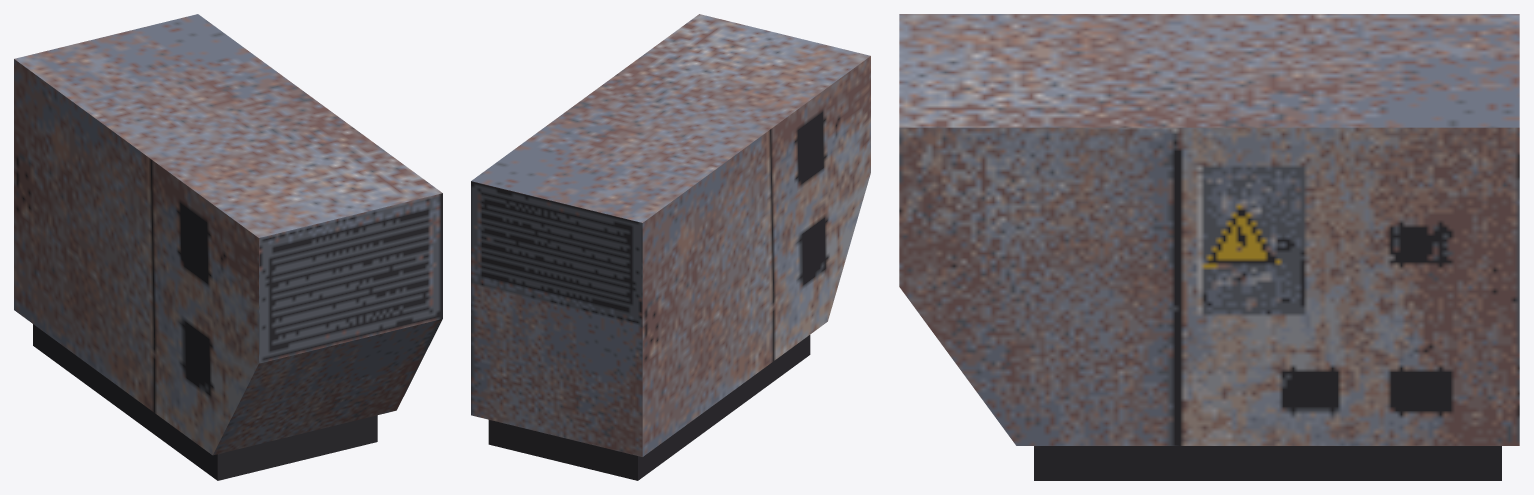
The model's file is Generator.fbx.
The picture shows the model from 3 angles, left to right: view 1: azimuth 30°, elevation 25°; view 2: azimuth 150°, elevation 25°; view 3: azimuth 270°, elevation 25°; orthographic projection. The views are drawn at different scales.
Parts seen in each view (by area): view 1: Generator; view 2: Generator; view 3: Generator.
Part boxes in pixels (left/top/right/bottom): Generator: left=14, top=14, right=442, bottom=480; Generator: left=471, top=14, right=870, bottom=480; Generator: left=899, top=14, right=1519, bottom=480.
Size of the model in its own units: 113 by 167 by 261.
Materials: 1 (1 with a texture image).
